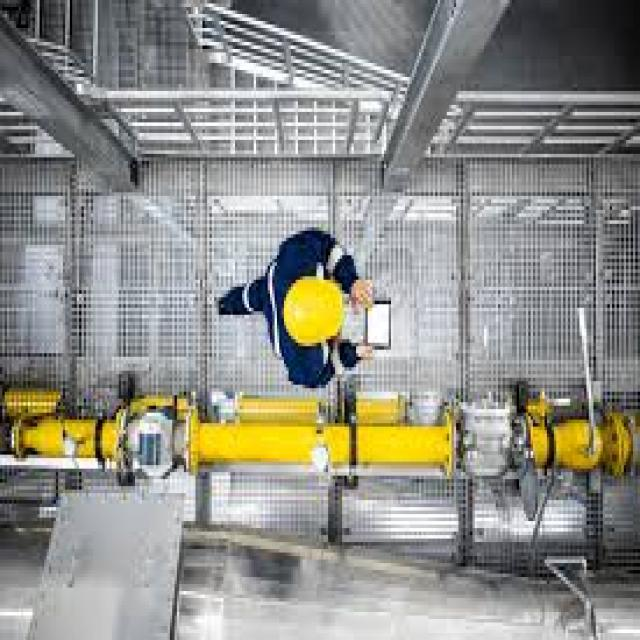Safety-Helmet: (275, 266, 356, 357)
